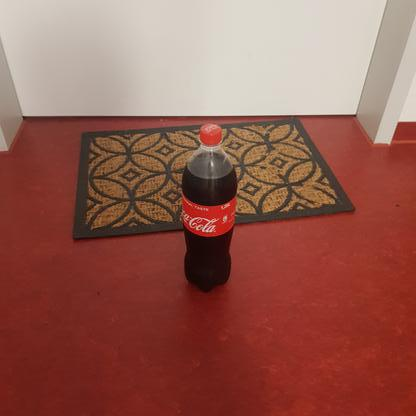coca-cola: (180, 123, 238, 294)
